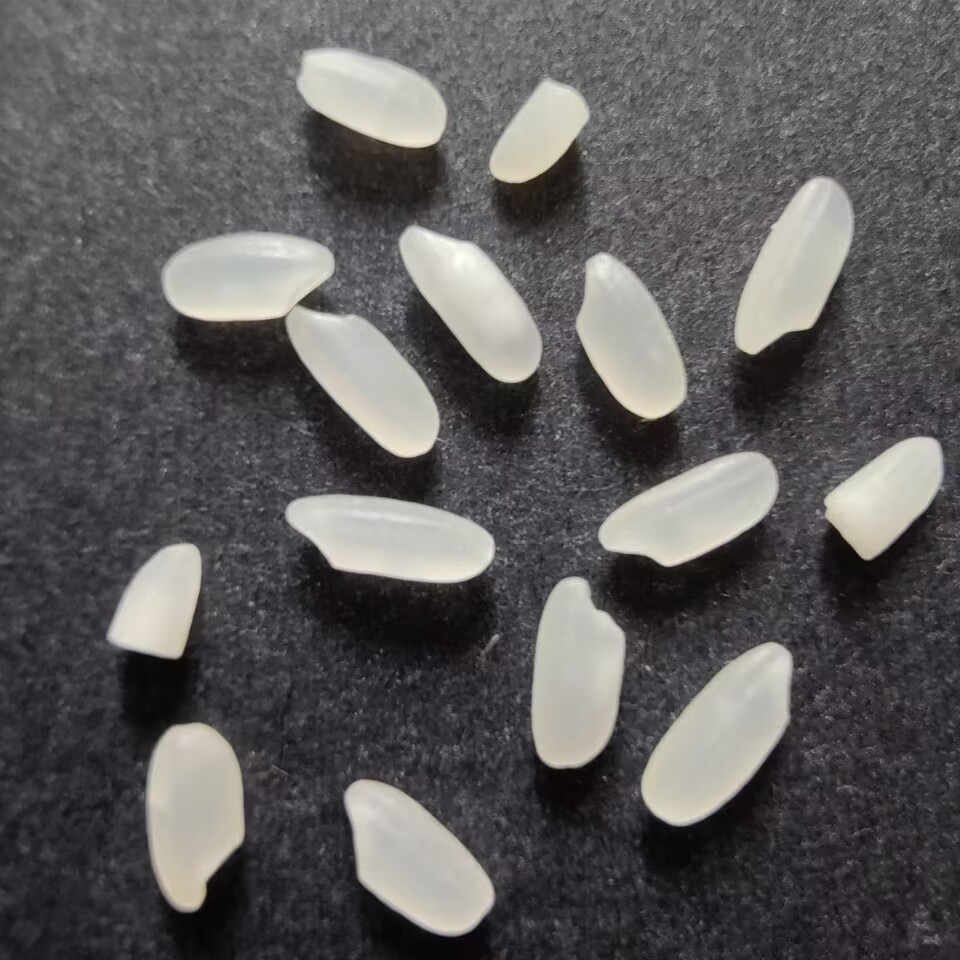broken: (822, 431, 949, 562), (101, 538, 206, 659), (489, 74, 591, 185)
rice: (635, 636, 799, 829), (340, 777, 499, 943), (283, 304, 444, 460), (395, 222, 546, 387), (729, 173, 857, 358), (593, 448, 785, 568), (142, 720, 250, 917), (280, 489, 496, 587), (525, 572, 630, 772), (573, 252, 693, 424), (155, 227, 336, 324), (294, 44, 447, 152)
